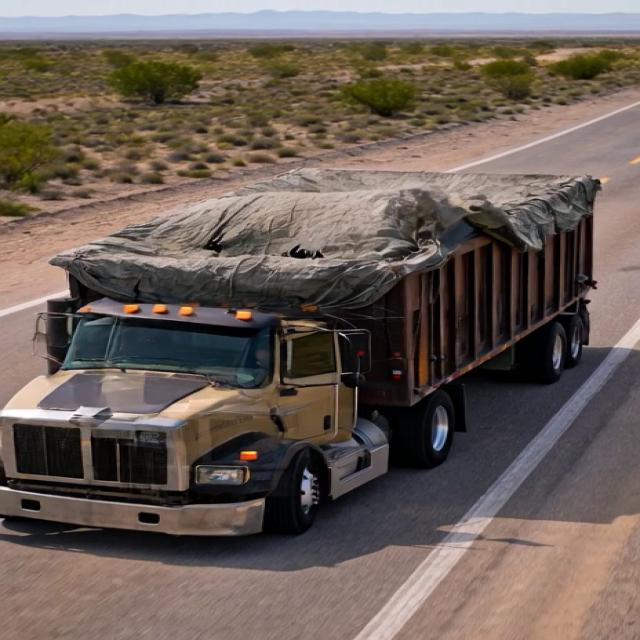Box: (50, 170, 609, 280)
Truck: (8, 122, 632, 570)
